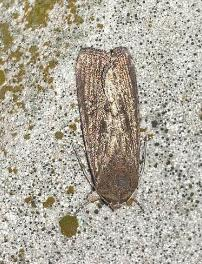army worm adult: (72, 43, 149, 214)
